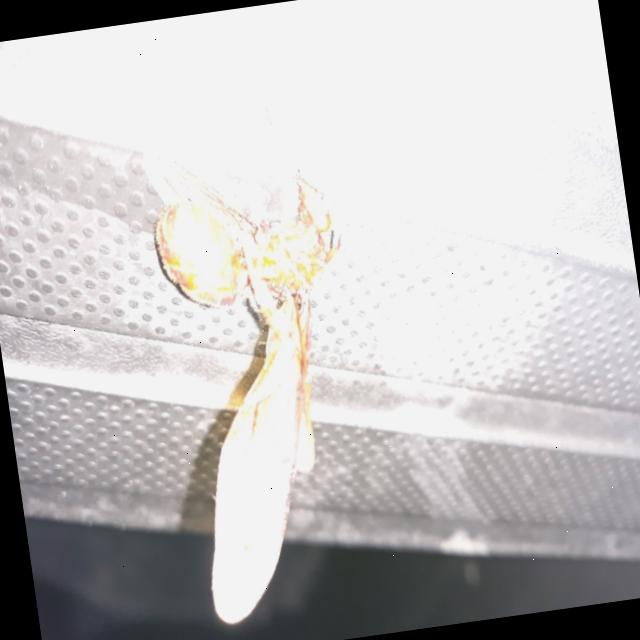Dead-Female-Alate: (146, 161, 394, 628)
